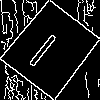I: (25, 24, 66, 69)
